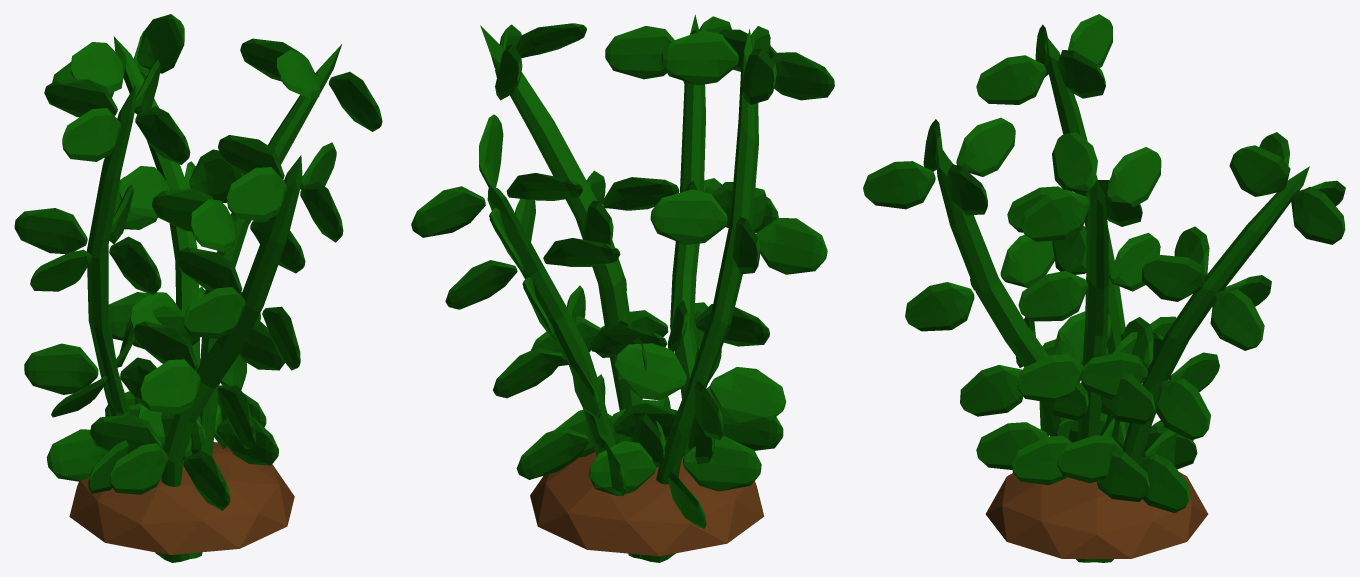
File: PotatoPlantDec.fbx
The picture shows the model from 3 angles, left to right: view 1: azimuth 30°, elevation 25°; view 2: azimuth 150°, elevation 25°; view 3: azimuth 270°, elevation 25°; orthographic projection. The views are drawn at different scales.
Visible parts, largest first — view 1: Plant, Icosphere; view 2: Plant, Icosphere; view 3: Plant, Icosphere.
Boxes of the visible parts, x1,y1,x2,y2 form: Plant: (14,14,382,562); Icosphere: (69,442,294,554); Plant: (411,14,834,562); Icosphere: (530,452,764,556); Plant: (863,14,1345,562); Icosphere: (985,472,1208,558).
Size of the model in its own units: 324 by 482 by 433.
